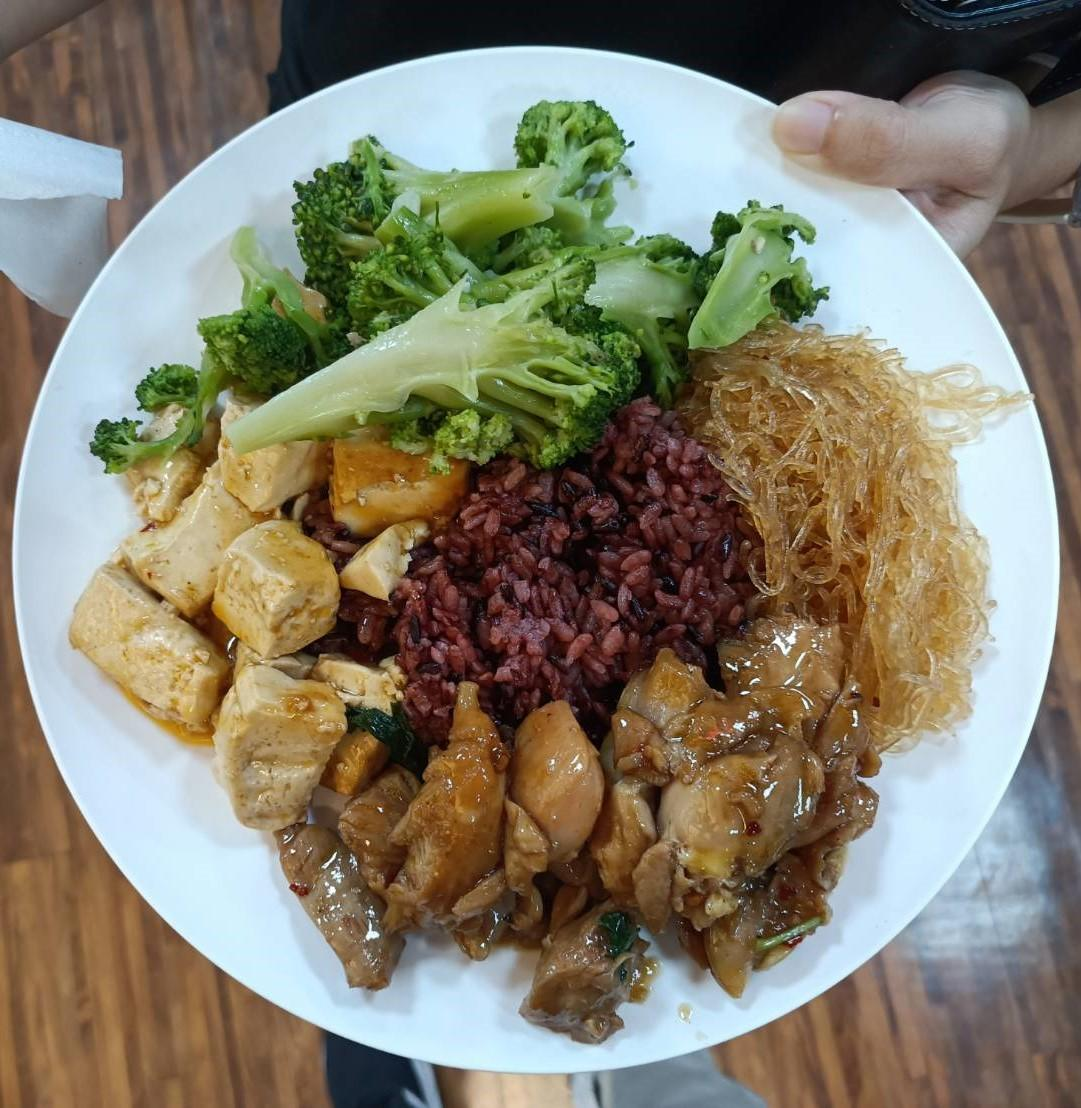big fried chicken leg: (18, 43, 1066, 1088)
braised fish: (368, 411, 760, 765)
braised fish fillet: (98, 153, 804, 417), (138, 427, 424, 803), (728, 321, 988, 698)
braised pork: (304, 666, 875, 963)
